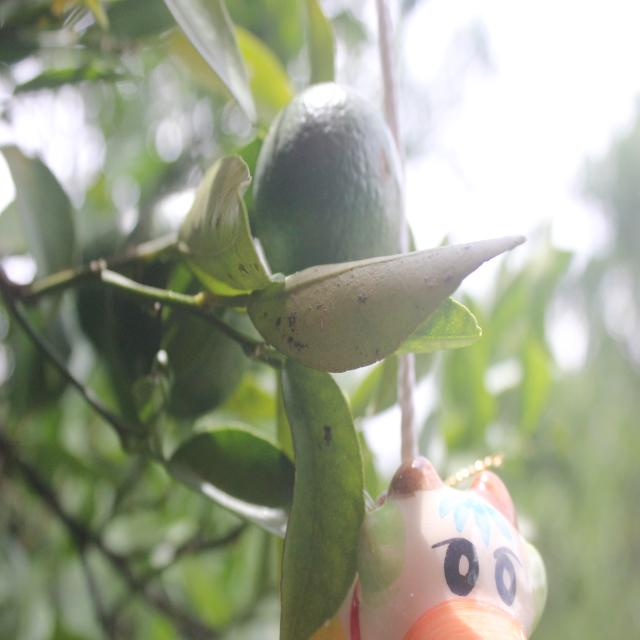melanose: (256, 234, 485, 364), (283, 369, 366, 565), (183, 181, 259, 290)
